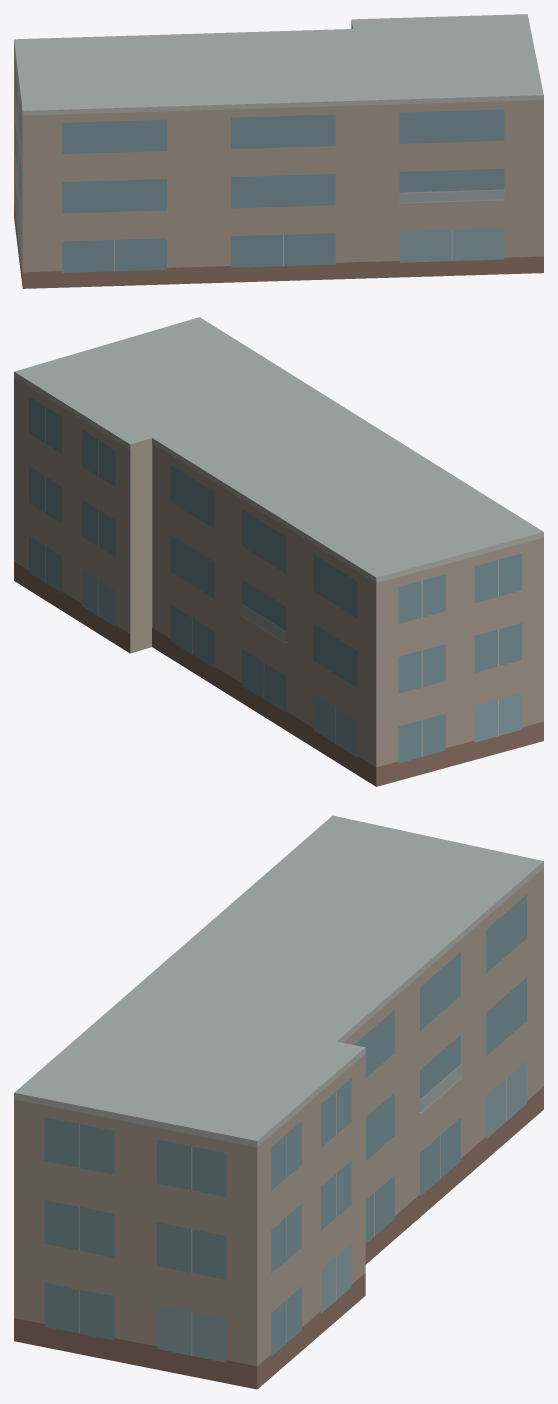
The model's file is survey-upis-32743240.glb.
3 renders of one model, top to bottom at view 1: azimuth 30°, elevation 25°; view 2: azimuth 150°, elevation 25°; view 3: azimuth 270°, elevation 25°, orthographic. The views are drawn at different scales.
Visible parts, largest first — view 1: survey-upis-32743240.tmp; view 2: survey-upis-32743240.tmp; view 3: survey-upis-32743240.tmp.
Boxes of the visible parts, <box> form: survey-upis-32743240.tmp: <box>14,14,543,288</box>; survey-upis-32743240.tmp: <box>14,317,543,786</box>; survey-upis-32743240.tmp: <box>14,815,543,1389</box>.
Bounding box in the file's own units: 26.15 × 9.3 × 17.98.
